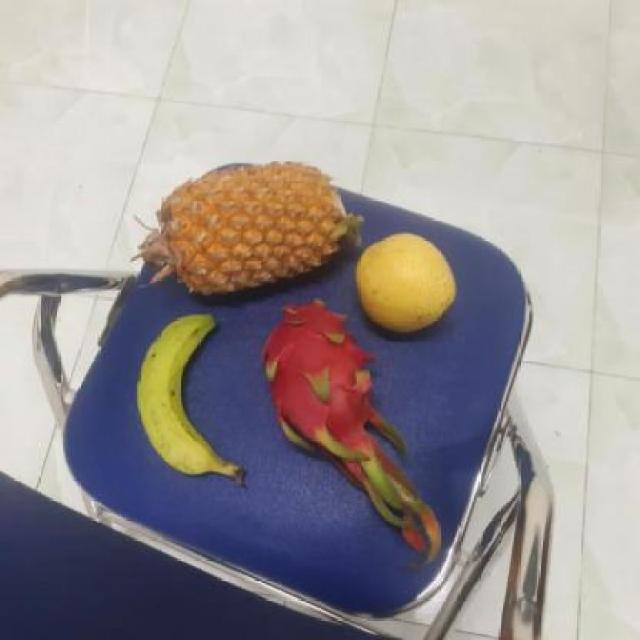banana: (134, 318, 241, 474)
dragon fruit: (262, 302, 387, 450)
pear: (352, 232, 462, 336)
pineapple: (155, 158, 353, 300)
